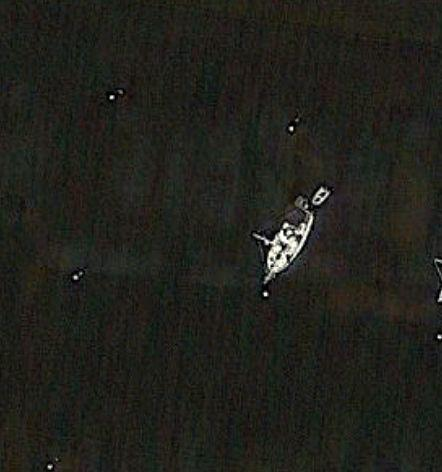Ships: (257, 169, 323, 316)
